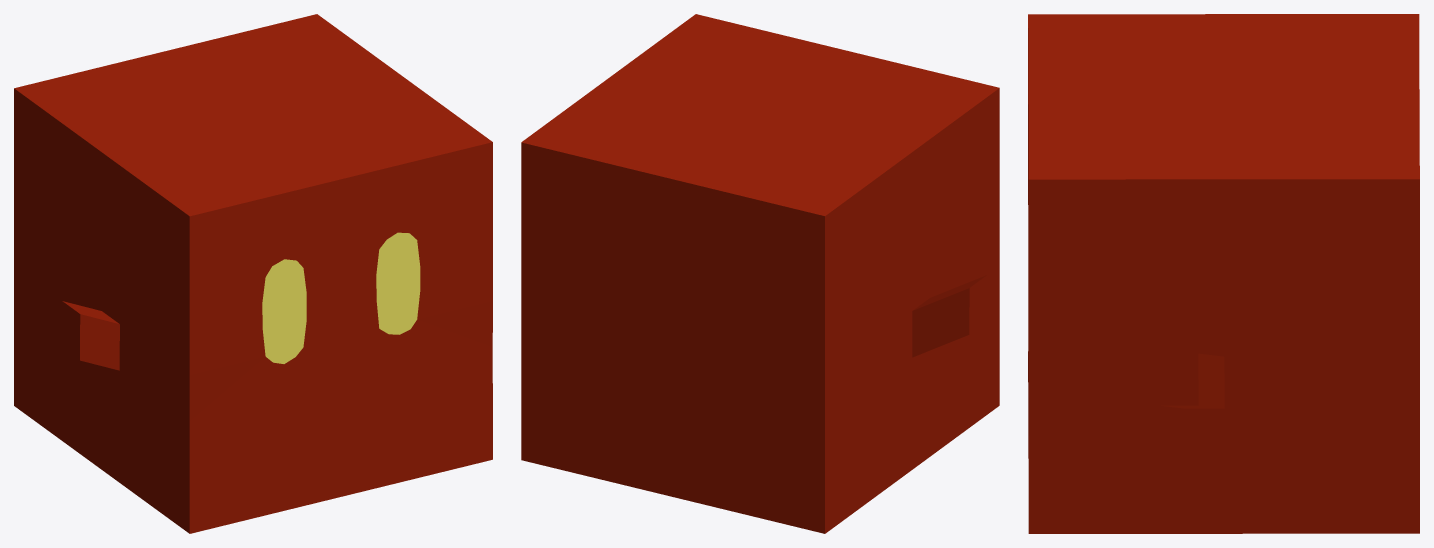
File: cube_minion.dae
3 views of the same model, side by side, from view 1: azimuth 30°, elevation 25°; view 2: azimuth 150°, elevation 25°; view 3: azimuth 270°, elevation 25° (orthographic). The views are drawn at different scales.
Visible parts, largest first — view 1: Cube; view 2: Cube; view 3: Cube.
Boxes of the visible parts, x1,y1,x2,y2 form: Cube: (14,14,492,533); Cube: (521,14,999,533); Cube: (1028,14,1419,533).
Bounding box in the file's own units: 2.6 × 2 × 2.
Materials: 2 (2 with a texture image).
